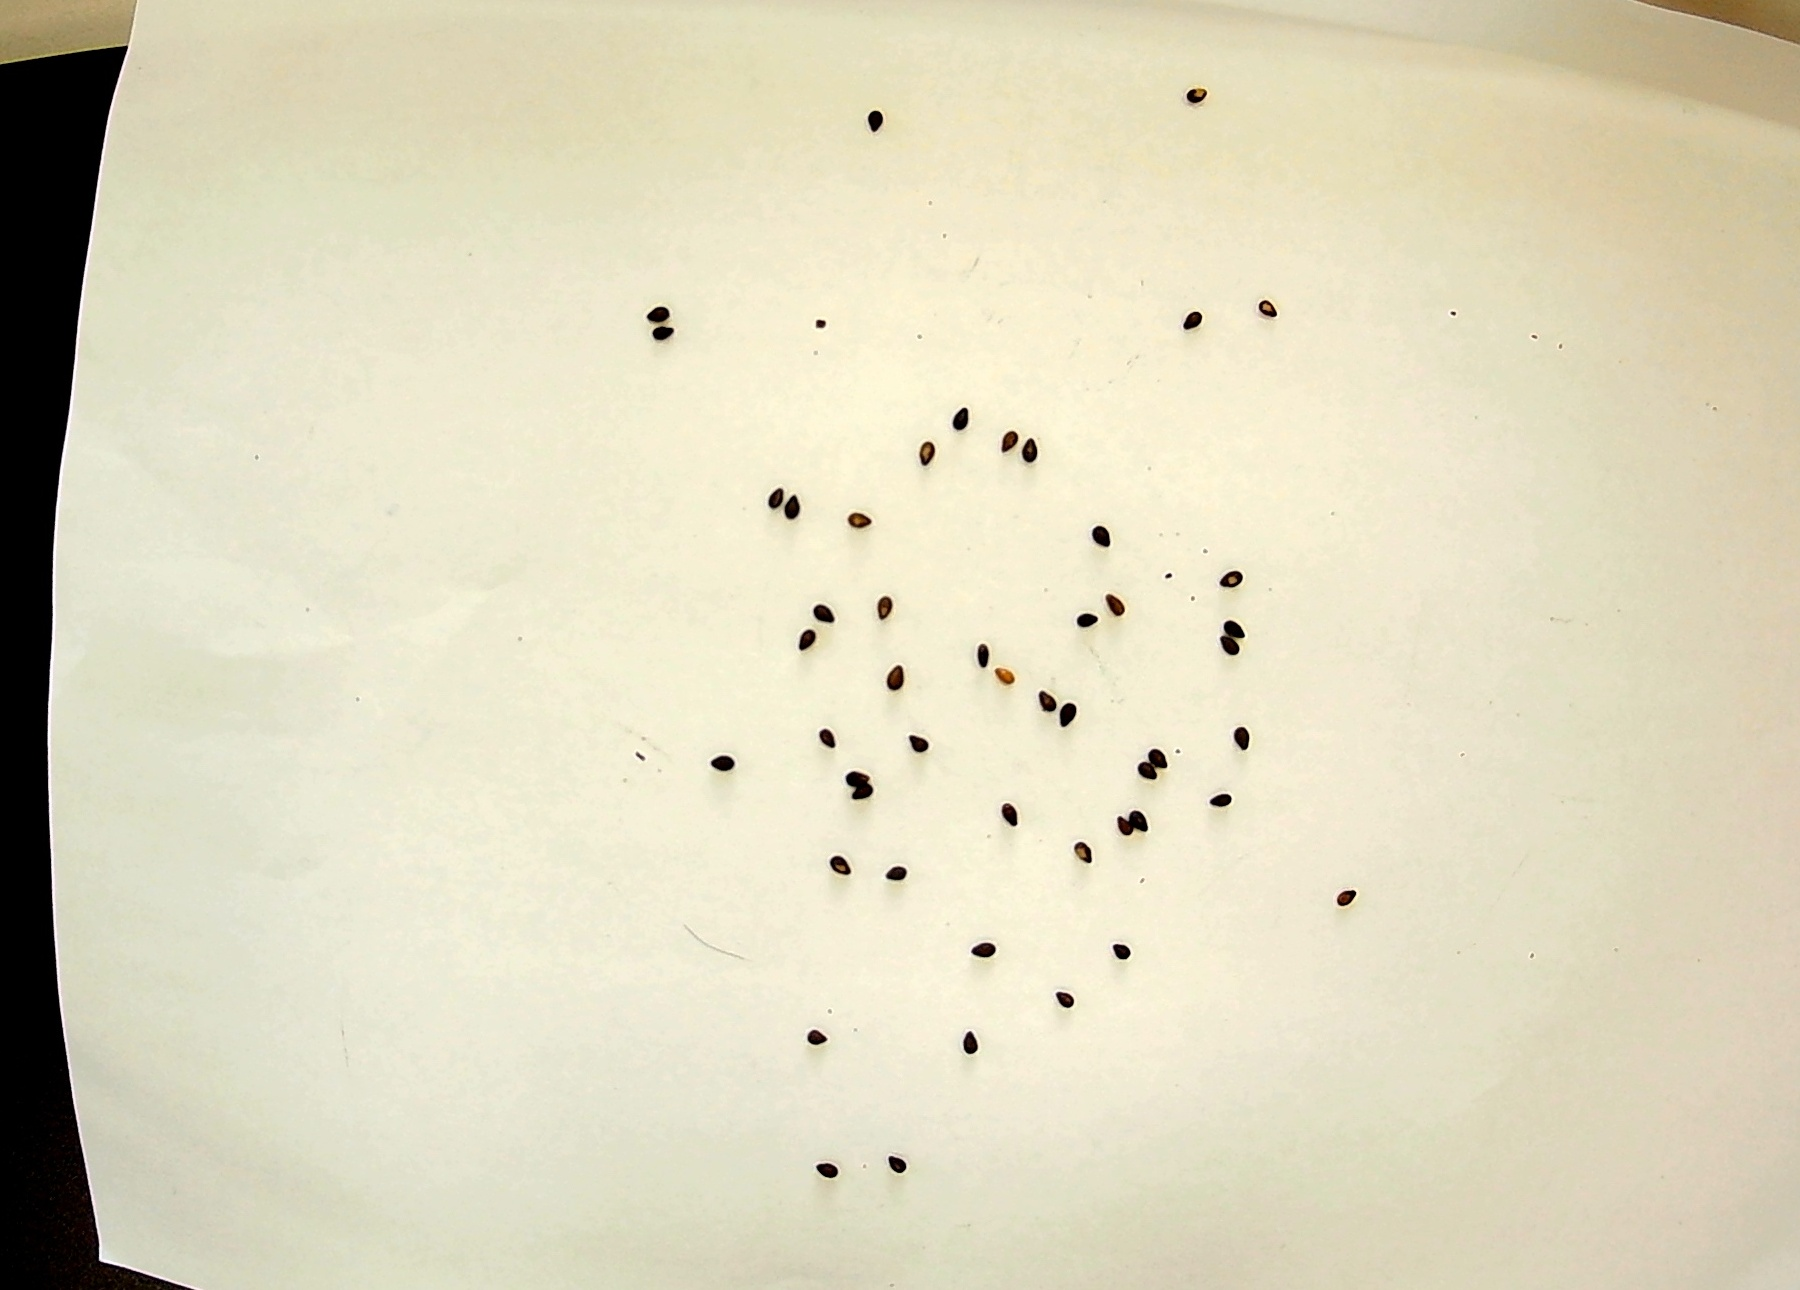sesami: (901, 438, 945, 466), (781, 630, 825, 658), (857, 101, 899, 128), (1240, 290, 1282, 318), (1204, 570, 1246, 598), (1146, 739, 1187, 766), (1127, 803, 1169, 831), (1060, 704, 1102, 732), (1033, 683, 1074, 711), (991, 667, 1033, 695), (1070, 607, 1112, 635), (1091, 591, 1133, 618), (1012, 443, 1053, 470), (801, 600, 843, 628), (855, 595, 897, 623), (987, 803, 1028, 831), (950, 1023, 992, 1051), (805, 1028, 847, 1055), (1095, 807, 1139, 833), (834, 757, 878, 783), (635, 297, 677, 324), (645, 329, 687, 356), (943, 401, 985, 427), (1176, 74, 1218, 101), (1173, 309, 1215, 335), (1218, 610, 1260, 637), (1220, 638, 1261, 665), (1220, 723, 1261, 750), (1206, 787, 1247, 814), (1316, 881, 1358, 907), (1119, 754, 1161, 780), (1065, 847, 1107, 874), (970, 638, 1012, 665), (1080, 524, 1122, 550), (984, 426, 1026, 452), (837, 504, 879, 531), (784, 493, 826, 519), (760, 483, 802, 510), (876, 665, 918, 691), (815, 727, 857, 754), (703, 747, 745, 773), (839, 783, 880, 810), (901, 730, 943, 757), (865, 857, 907, 884), (822, 850, 864, 877), (966, 938, 1007, 965), (1047, 981, 1088, 1008), (1100, 940, 1141, 966), (804, 1156, 846, 1182), (880, 1150, 922, 1177)
